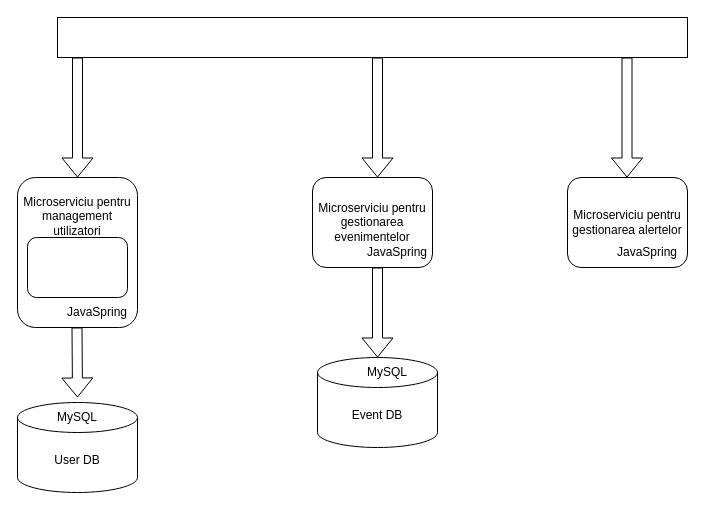
Image size: 705x510. Some labels were removed from this diagram. Each missing label, with the centre of its shape:
"Microserviciu Autorizare" belongs at (x=77, y=267).
"VueJs( Platforma de utilizare)" belongs at (x=372, y=37).
